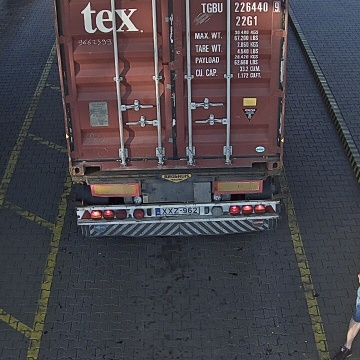serial_id: (200, 1, 280, 12)
